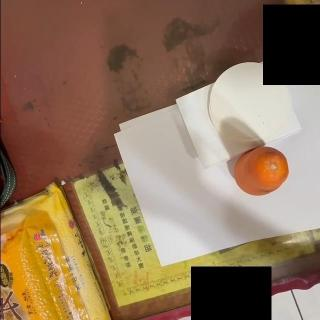carrot: (233, 146, 290, 197)
